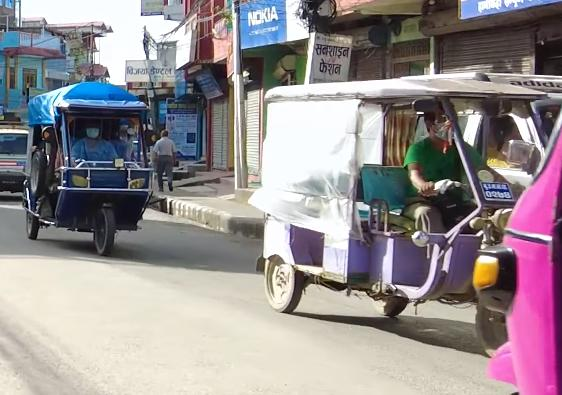e-rickshaw: (248, 58, 562, 355), (28, 79, 156, 260)
